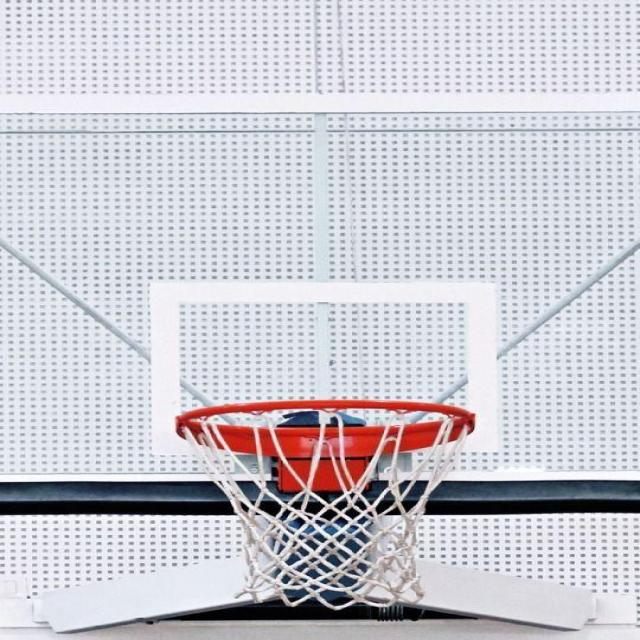hoop: (152, 401, 530, 612)
